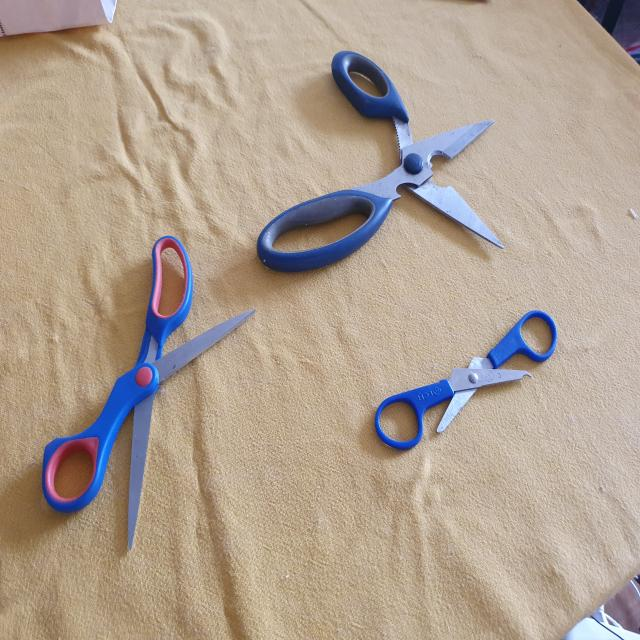scissors: (38, 232, 256, 548), (257, 49, 503, 274), (370, 304, 559, 449)
